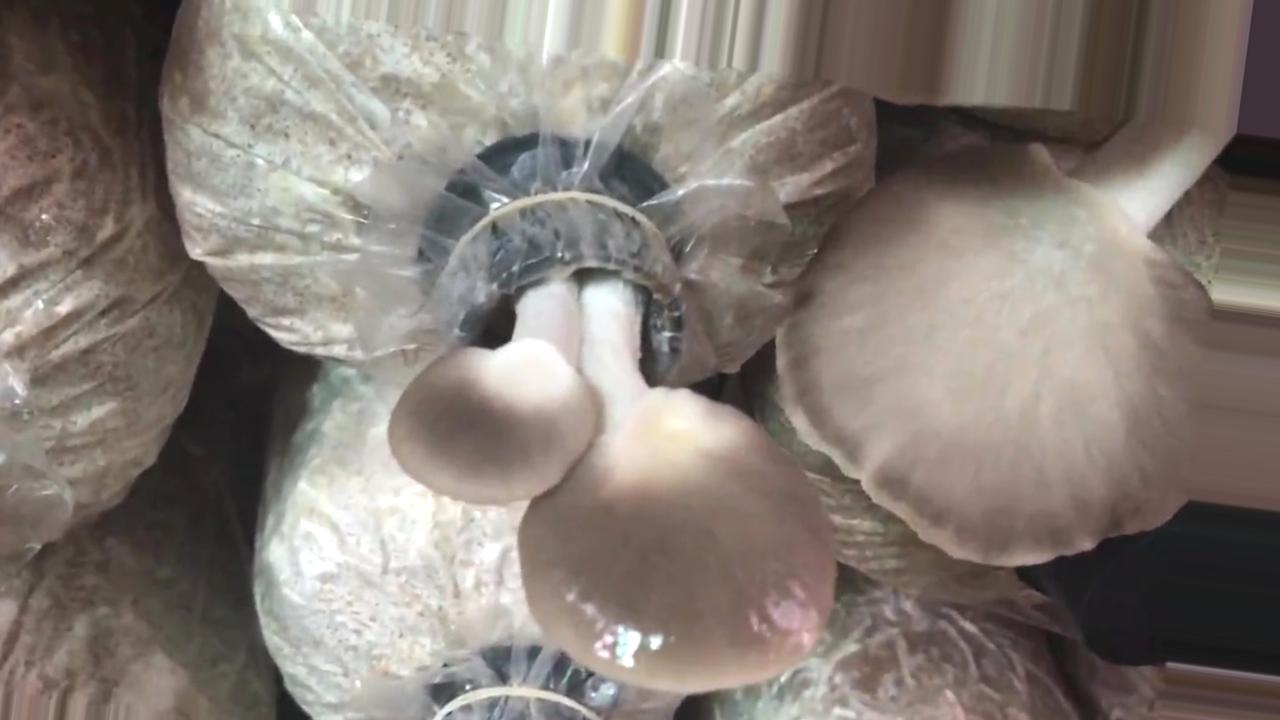nam: (778, 1, 1277, 571), (388, 202, 839, 702)
